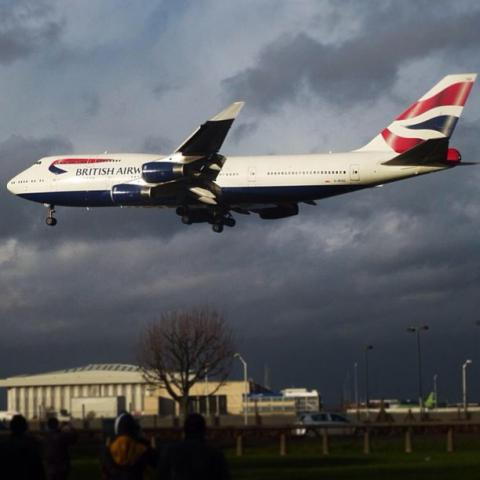car: (294, 412, 380, 437)
